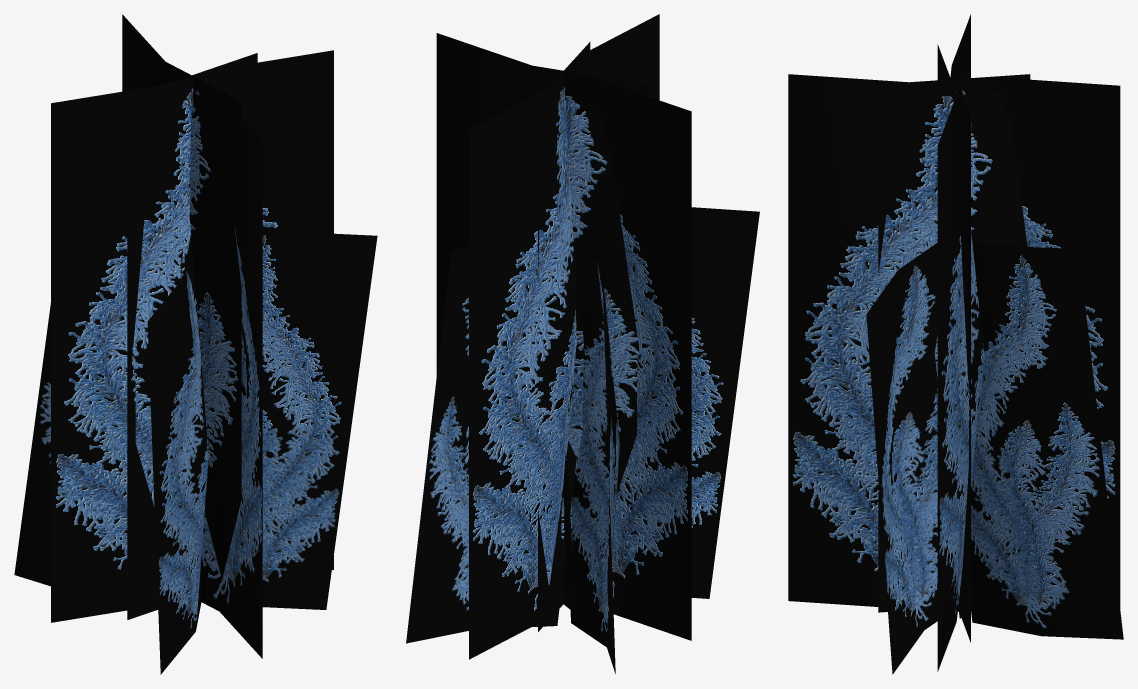
The model's file is vege_magique2_3.FBX.
The picture shows the model from 3 angles, left to right: view 1: azimuth 30°, elevation 25°; view 2: azimuth 150°, elevation 25°; view 3: azimuth 270°, elevation 25°; orthographic projection.
Parts seen in each view (by area): view 1: Plane431; view 2: Plane431; view 3: Plane431.
Part boxes in pixels (bbox=[...]): Plane431: bbox=[14, 14, 377, 674]; Plane431: bbox=[406, 14, 759, 673]; Plane431: bbox=[788, 14, 1123, 674].
Bounding box in the file's own units: 162 × 302 × 169.
